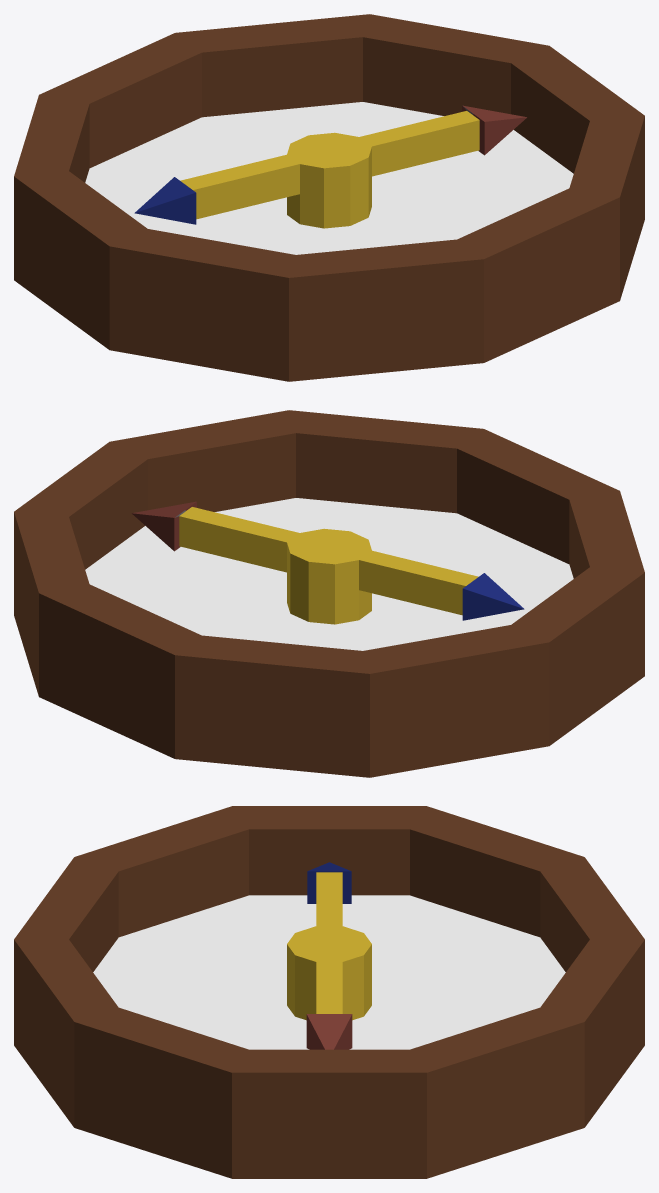
Rendered from compasshand01.gltf.
The picture shows the model from 3 angles, top to bottom: view 1: azimuth 30°, elevation 25°; view 2: azimuth 150°, elevation 25°; view 3: azimuth 270°, elevation 25°; orthographic projection. The views are drawn at different scales.
Parts seen in each view (by area): view 1: Cylinder; view 2: Cylinder; view 3: Cylinder.
Boxes of the visible parts, bbox=[...] form: Cylinder: bbox=[14, 14, 644, 381]; Cylinder: bbox=[14, 410, 644, 777]; Cylinder: bbox=[14, 806, 644, 1178].
Bounding box in the file's own units: 0.08 × 0.0148 × 0.08.
1 material, 1 textured.
